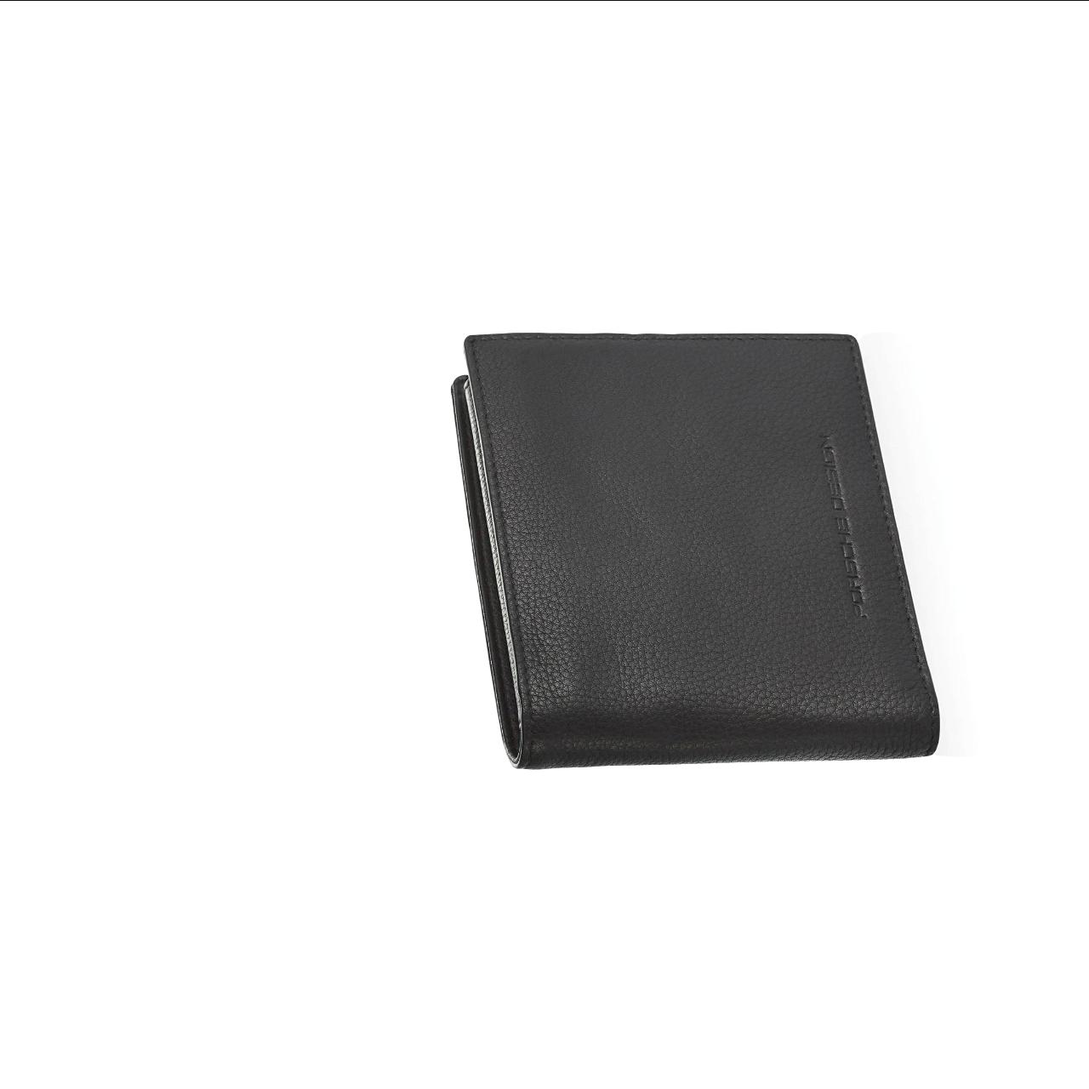wallet: (425, 221, 949, 804)
